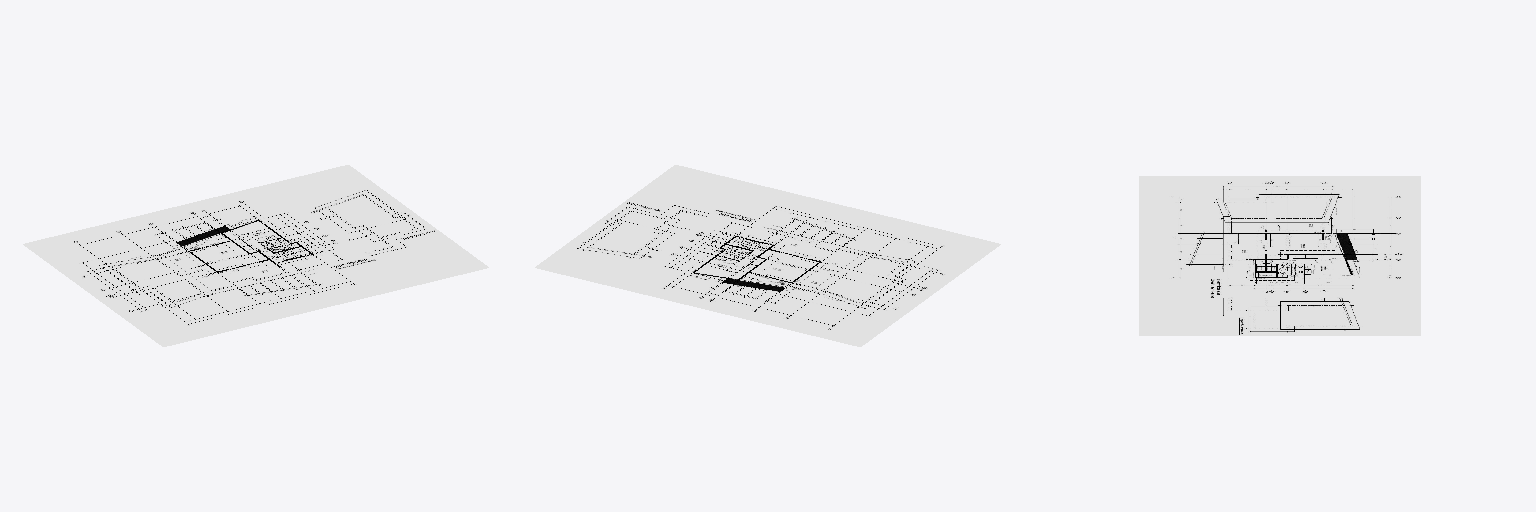
3 views of the same model, side by side, from view 1: azimuth 30°, elevation 25°; view 2: azimuth 150°, elevation 25°; view 3: azimuth 270°, elevation 25° (orthographic).
Parts seen in each view (by area): view 1: test1; view 2: test1; view 3: test1.
Part boxes in pixels (left/top/right/bottom): test1: left=23, top=165, right=488, bottom=346; test1: left=535, top=165, right=1000, bottom=346; test1: left=1139, top=176, right=1420, bottom=335.
Bounding box in the file's own units: 1043 × 0 × 781.
1 materials, 1 textured.